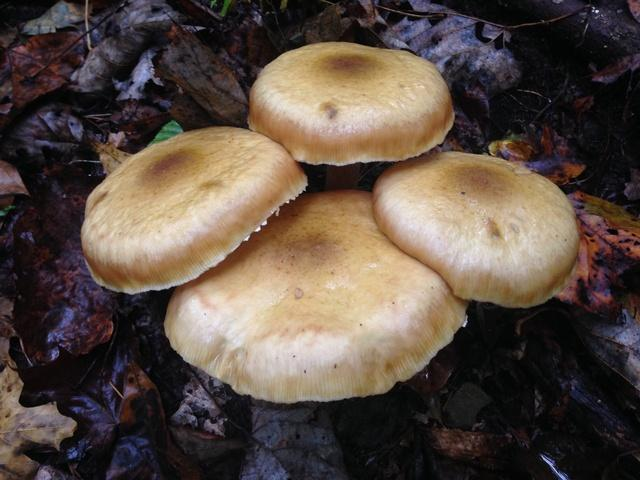Edible Mushroom: (162, 188, 469, 403), (79, 124, 308, 294), (371, 149, 580, 308), (246, 39, 455, 187)
